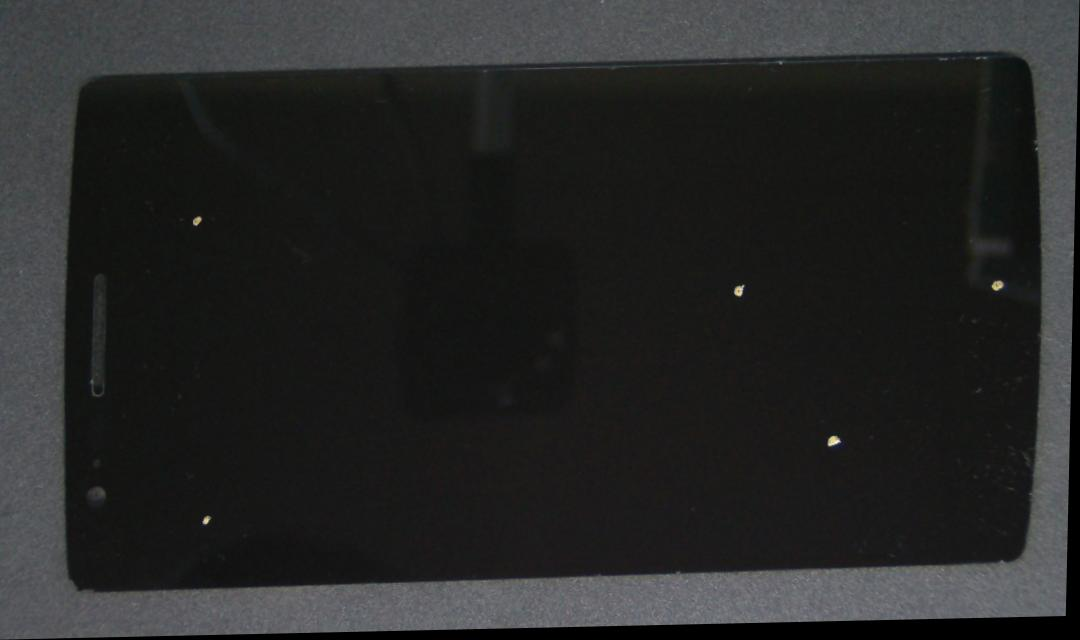Scratches: (692, 272, 786, 316), (188, 482, 234, 551), (815, 418, 870, 470), (170, 190, 215, 240), (978, 261, 1017, 316)
